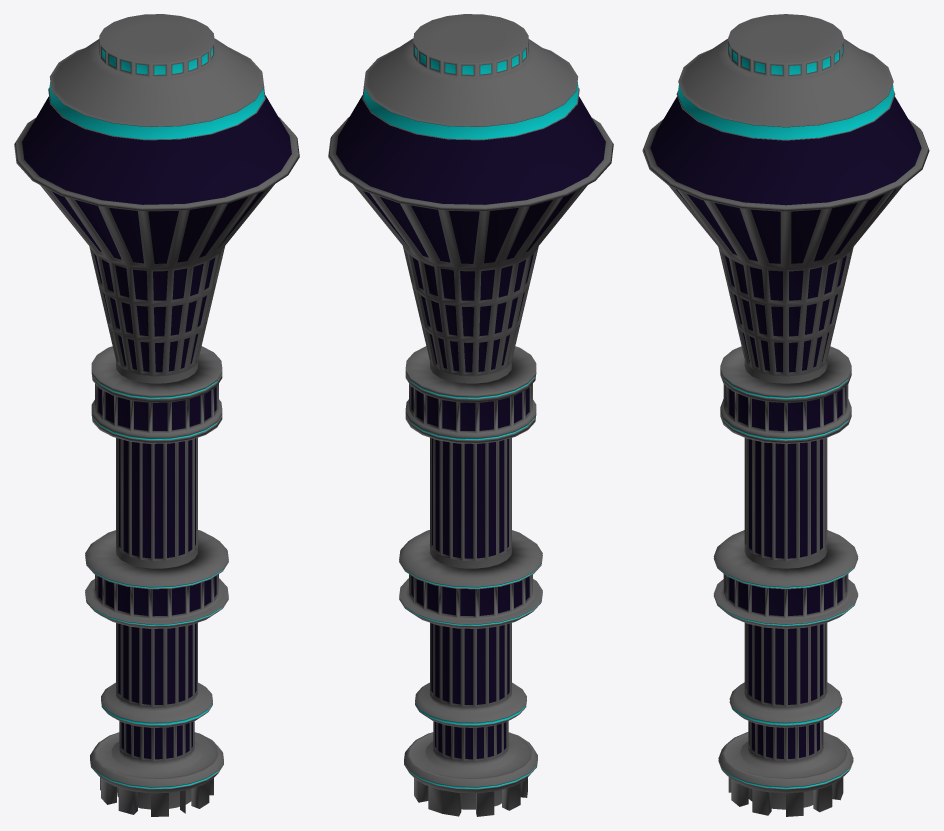
The model's file is building3.fbx.
The picture shows the model from 3 angles, left to right: view 1: azimuth 30°, elevation 25°; view 2: azimuth 150°, elevation 25°; view 3: azimuth 270°, elevation 25°; orthographic projection.
Visible parts, largest first — view 1: tall; view 2: tall; view 3: tall.
Boxes of the visible parts, <box> form: tall: <box>14,14,299,816</box>; tall: <box>328,14,613,816</box>; tall: <box>642,14,929,816</box>.
Bounding box in the file's own units: 258 × 748 × 258.
